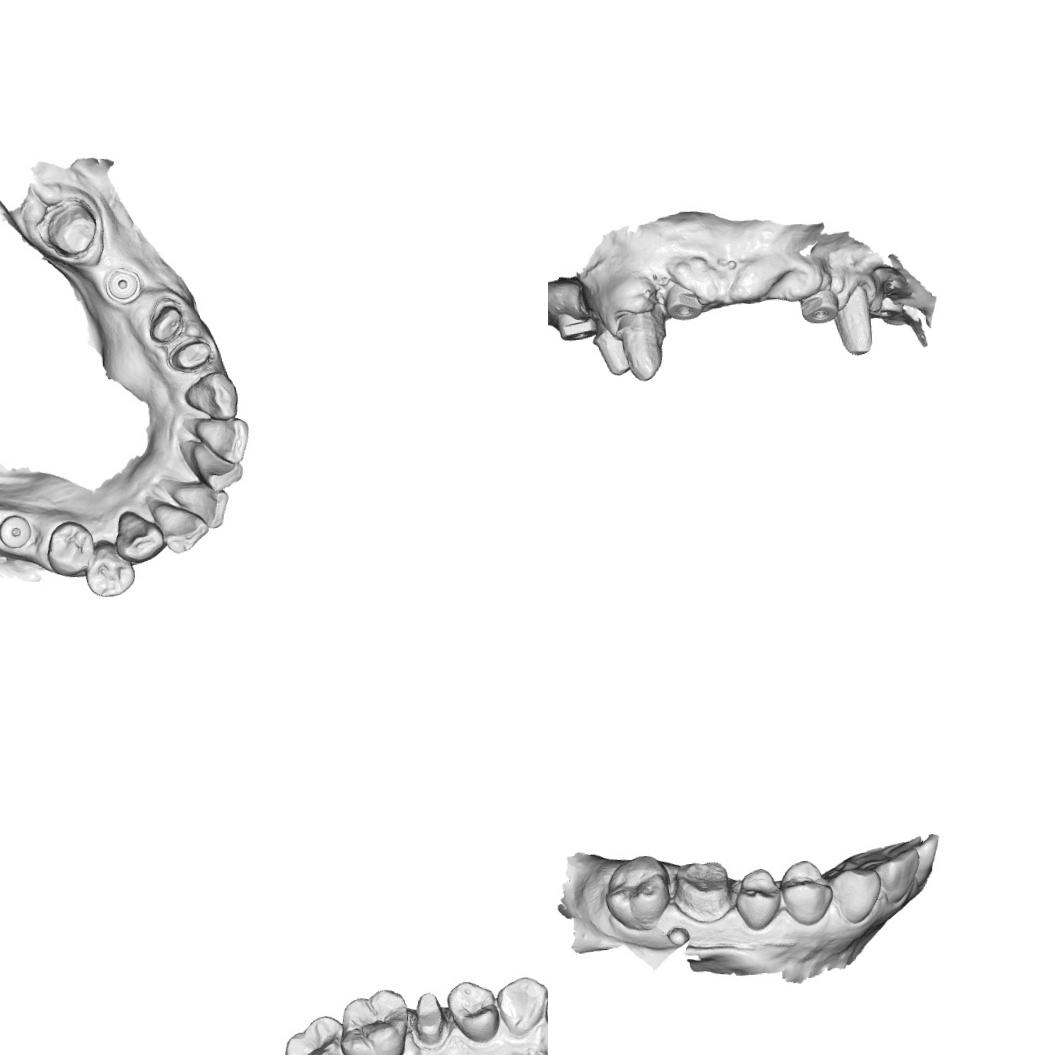canine: (830, 861, 884, 928), (494, 974, 548, 1039), (111, 505, 168, 565), (182, 366, 238, 424)
crown: (668, 848, 736, 926), (612, 301, 666, 384), (38, 194, 104, 260), (832, 284, 878, 363), (407, 987, 453, 1054), (165, 329, 222, 377), (142, 293, 190, 344), (591, 325, 632, 380)
implant: (99, 256, 146, 308), (793, 282, 842, 328), (662, 282, 700, 324), (0, 509, 36, 551), (553, 312, 600, 344), (872, 293, 904, 325)
incisor: (188, 434, 250, 494), (148, 499, 212, 556), (192, 410, 253, 467), (168, 478, 230, 532), (874, 844, 924, 908), (911, 830, 944, 888)
molar: (598, 850, 672, 934), (335, 986, 412, 1055), (280, 1011, 353, 1055)
premolar: (773, 853, 836, 930), (444, 977, 502, 1046), (731, 862, 786, 932), (43, 516, 100, 580), (82, 538, 140, 600)
